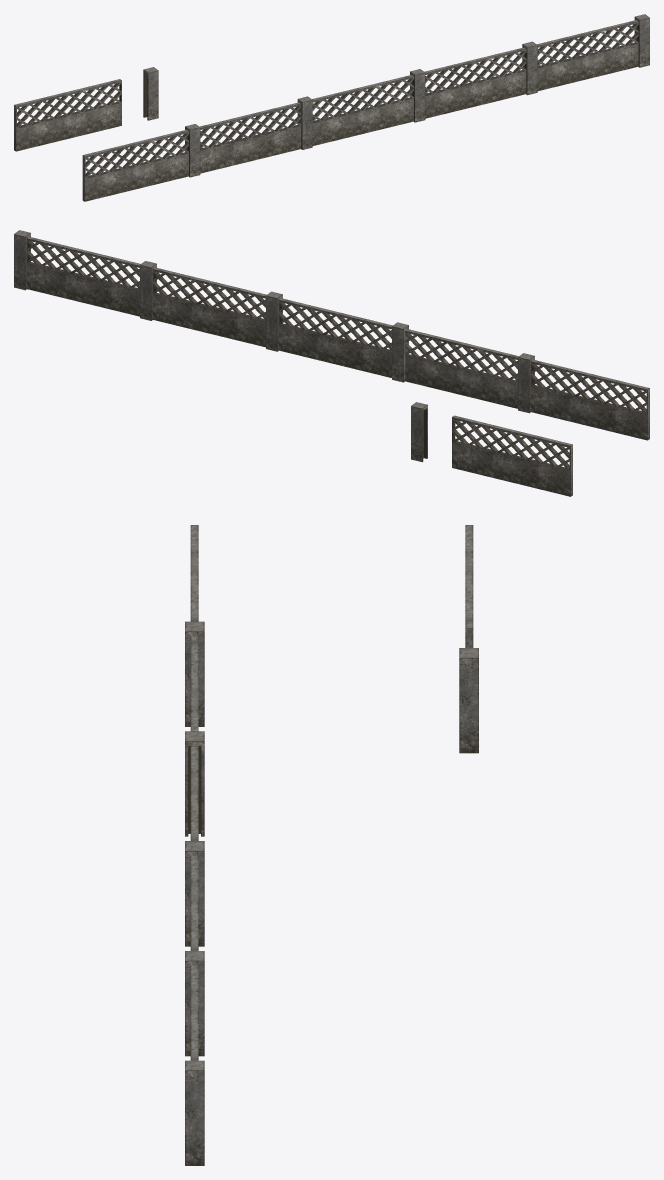
Rendered from garden_cement_fence_wall_building.glb.
The picture shows the model from 3 angles, top to bottom: view 1: azimuth 30°, elevation 25°; view 2: azimuth 150°, elevation 25°; view 3: azimuth 270°, elevation 25°; orthographic projection. The views are drawn at different scales.
Visible parts, largest first — view 1: all, 01_Mat_0, 02_Mat_0; view 2: all, 01_Mat_0, 02_Mat_0; view 3: all, 02_Mat_0, 01_Mat_0.
Part boxes in pixels (x1=…): all: x1=82, y1=14, x2=649, y2=201; 01_Mat_0: x1=14, y1=79, x2=121, y2=151; 02_Mat_0: x1=143, y1=67, x2=158, y2=120; all: x1=14, y1=230, x2=649, y2=440; 01_Mat_0: x1=452, y1=415, x2=572, y2=496; 02_Mat_0: x1=411, y1=402, x2=427, y2=462; all: x1=185, y1=525, x2=204, y2=1165; 02_Mat_0: x1=459, y1=648, x2=478, y2=753; 01_Mat_0: x1=465, y1=525, x2=473, y2=647.
Bounding box in the file's own units: 7.98 × 0.644 × 1.8.
Materials: 1 (1 with a texture image).
